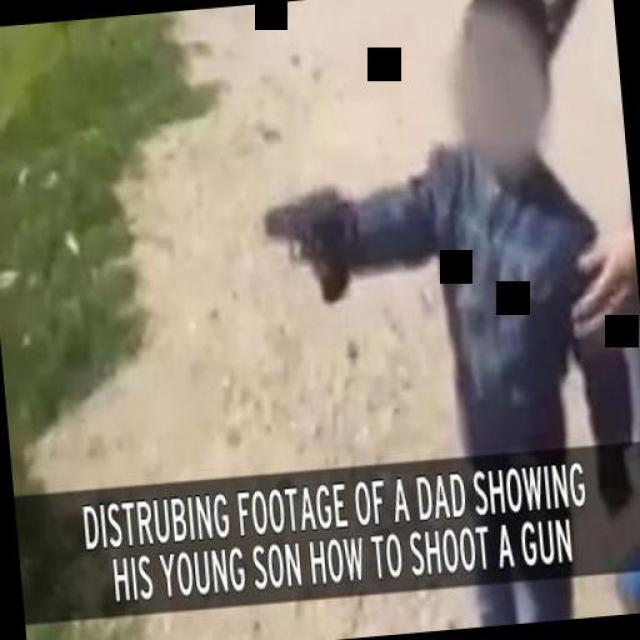gun: (260, 184, 352, 308)
